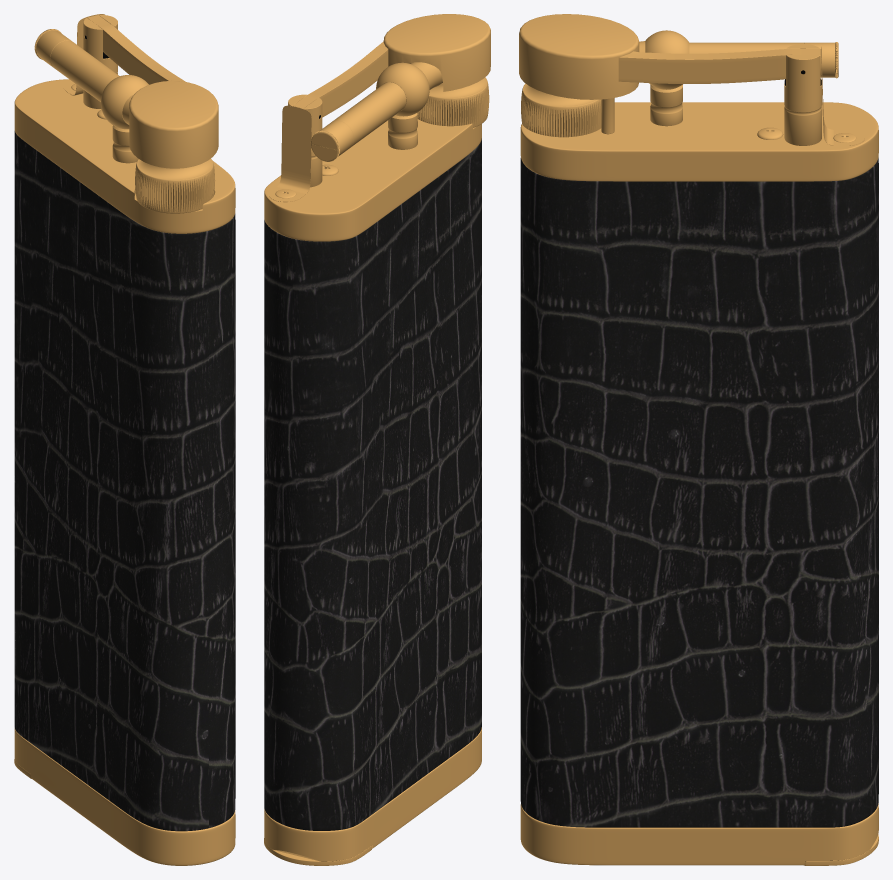
Rendered from im_corona_old_boy_lighter.glb.
The picture shows the model from 3 angles, left to right: view 1: azimuth 30°, elevation 25°; view 2: azimuth 150°, elevation 25°; view 3: azimuth 270°, elevation 25°; orthographic projection. The views are drawn at different scales.
Parts seen in each view (by area): view 1: Cube.002; view 2: Cube.002; view 3: Cube.002.
Part boxes in pixels (x1,y1,x2,y2): Cube.002: [14, 14, 235, 865]; Cube.002: [264, 14, 490, 865]; Cube.002: [519, 14, 878, 865].
Bounding box in the file's own units: 49.84 × 368 × 149.
Materials: 8 (1 with a texture image).
